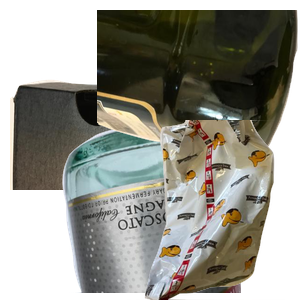cardboard: (10, 77, 245, 257)
glass: (60, 120, 300, 300)
plastic: (97, 10, 300, 165)
trash: (127, 120, 300, 300)
